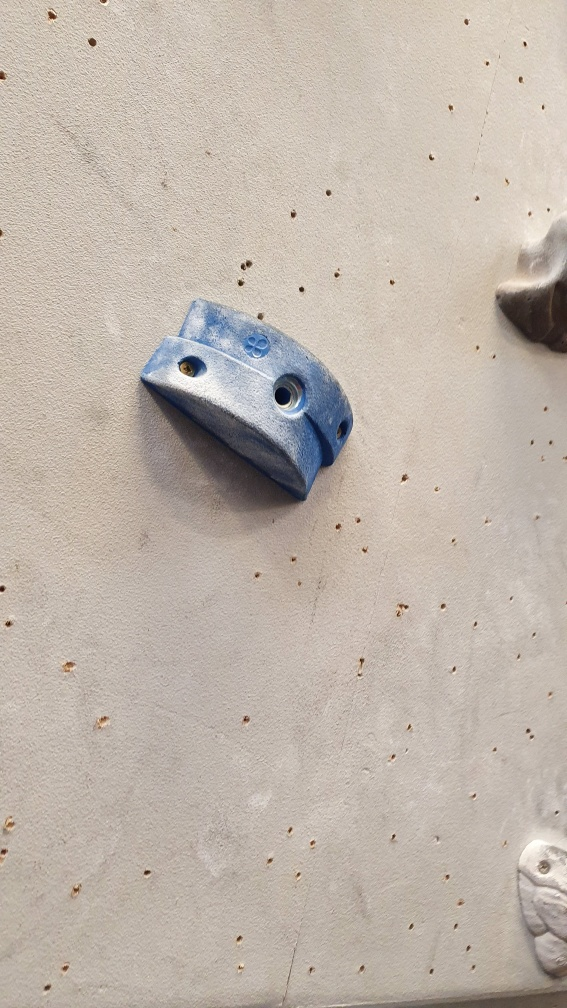Pinch: (136, 293, 360, 503)
